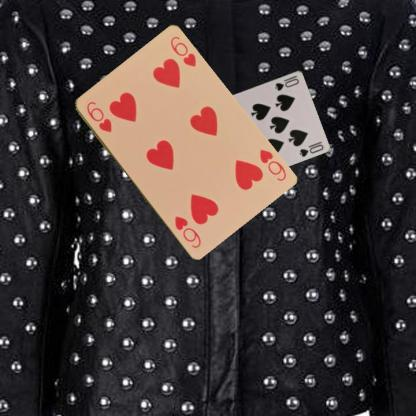10s: (272, 73, 301, 92)
6h: (257, 146, 287, 183), (83, 98, 113, 134)
